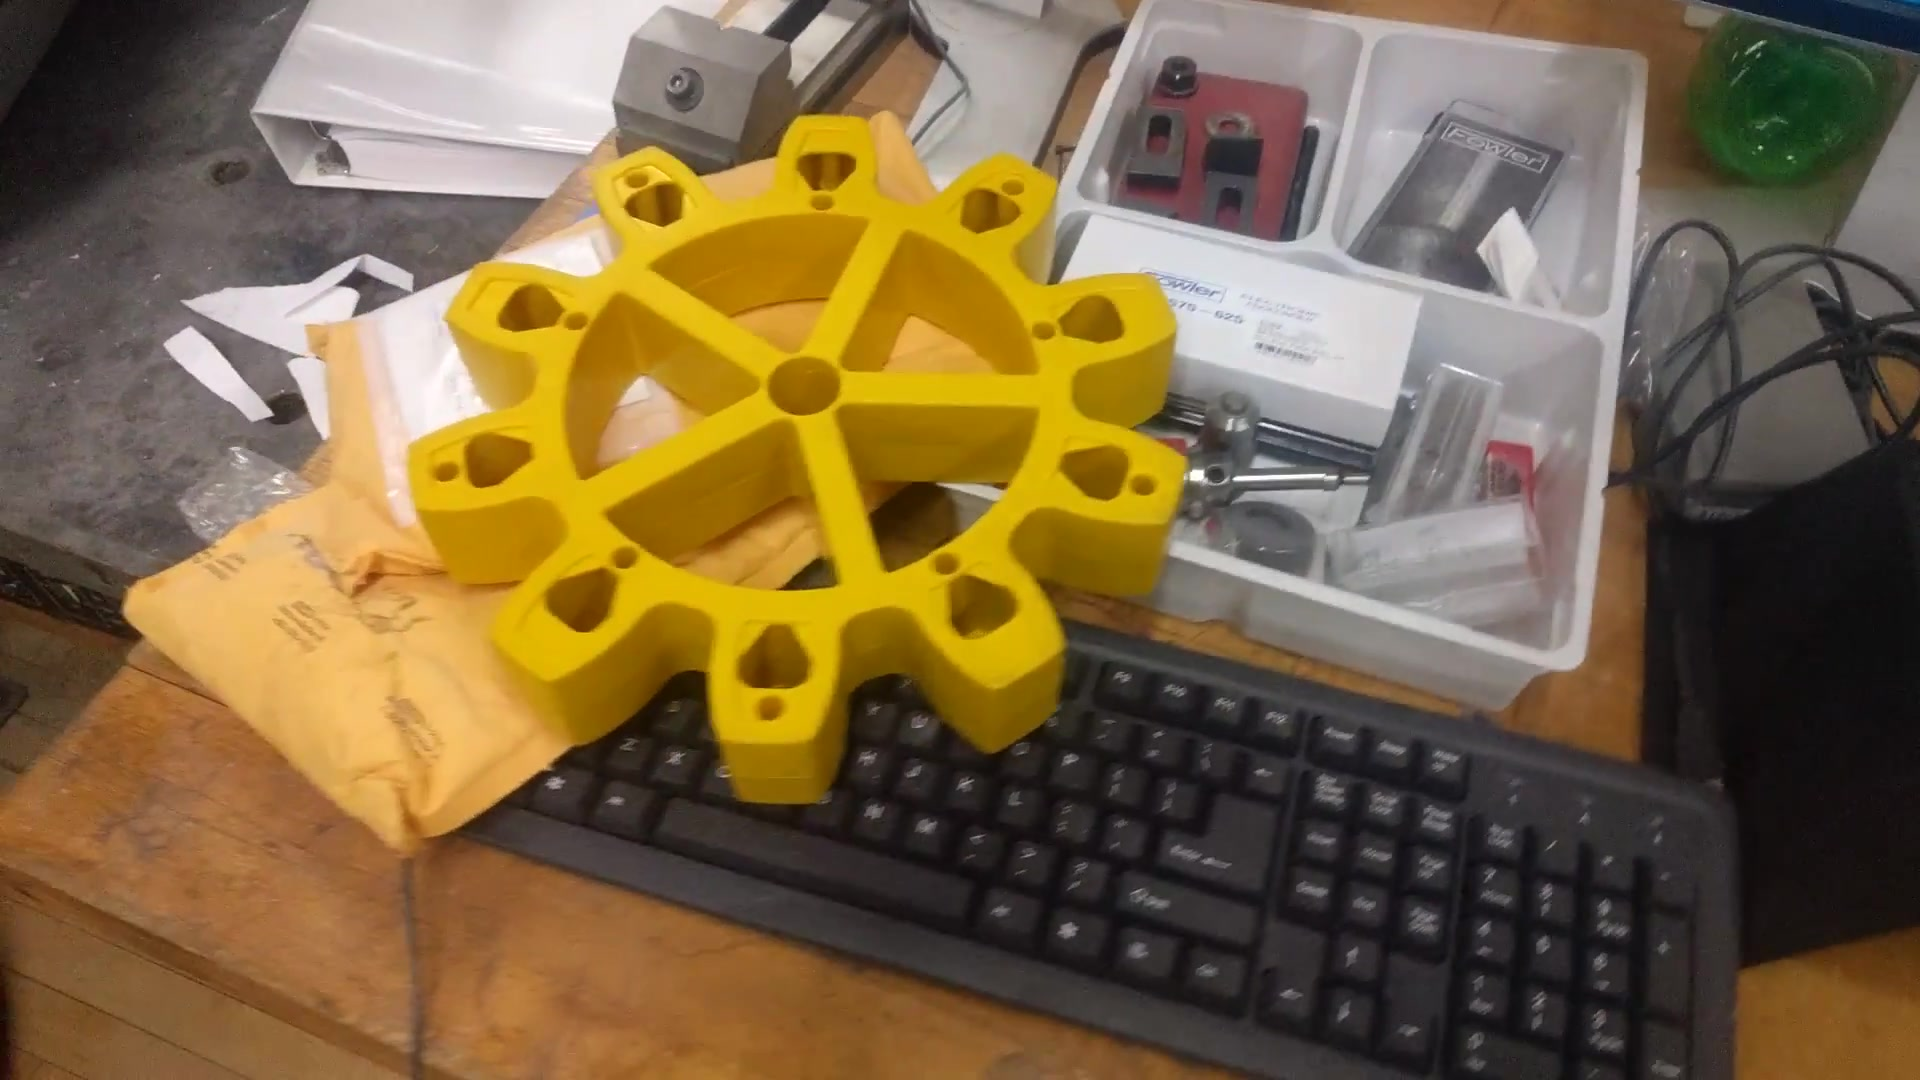gear: (389, 79, 1245, 845)
